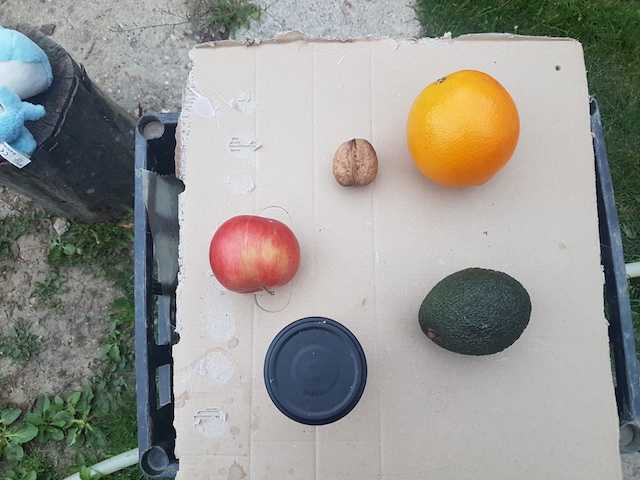apple: (205, 214, 308, 296)
avocado: (418, 262, 536, 358)
nut: (330, 136, 384, 189)
orange: (405, 69, 521, 189)
recipient: (263, 316, 369, 427)
